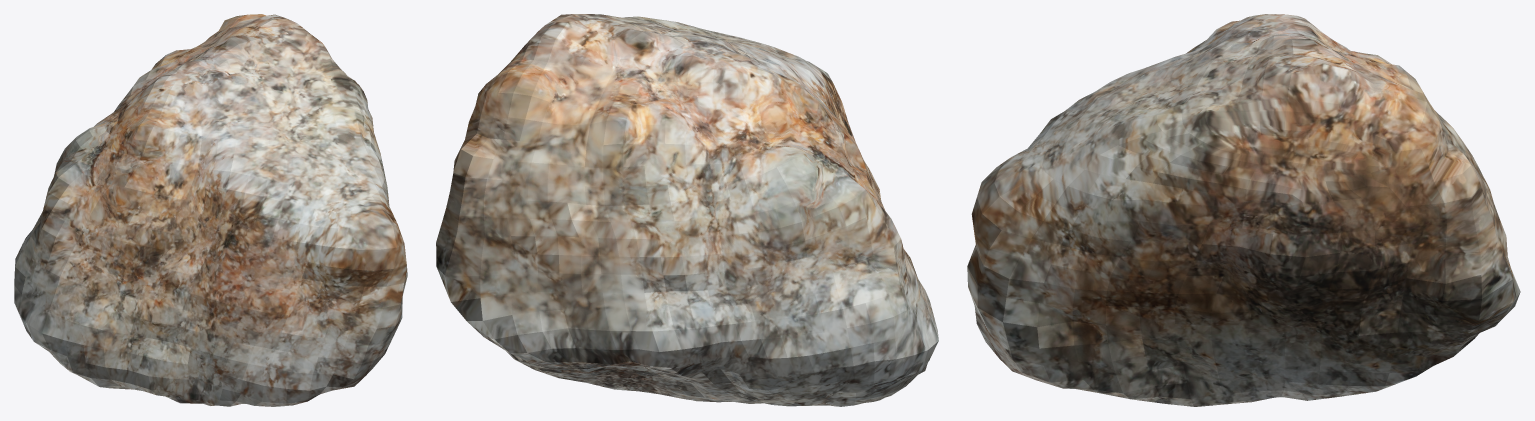
File: asteroid.FBX
3 renders of one model, left to right at view 1: azimuth 30°, elevation 25°; view 2: azimuth 150°, elevation 25°; view 3: azimuth 270°, elevation 25°, orthographic. The views are drawn at different scales.
Visible parts, largest first — view 1: LowRez; view 2: LowRez; view 3: LowRez.
Boxes of the visible parts, box(x1,y1,x2,y2) form: LowRez: box(14, 14, 407, 406); LowRez: box(436, 14, 938, 406); LowRez: box(967, 14, 1520, 406).
Size of the model in its own units: 4.83 by 4.08 by 5.56.
